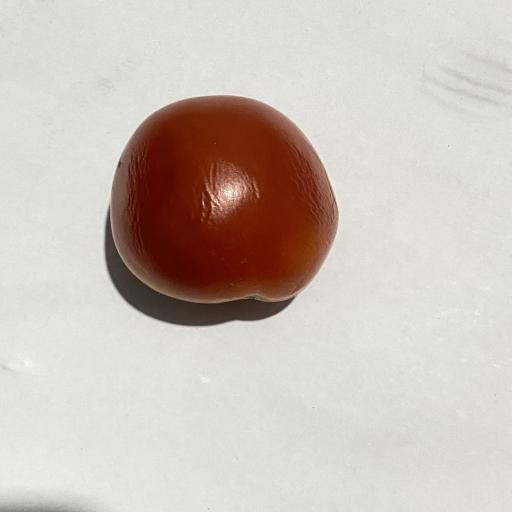overipe: (110, 95, 338, 303)
